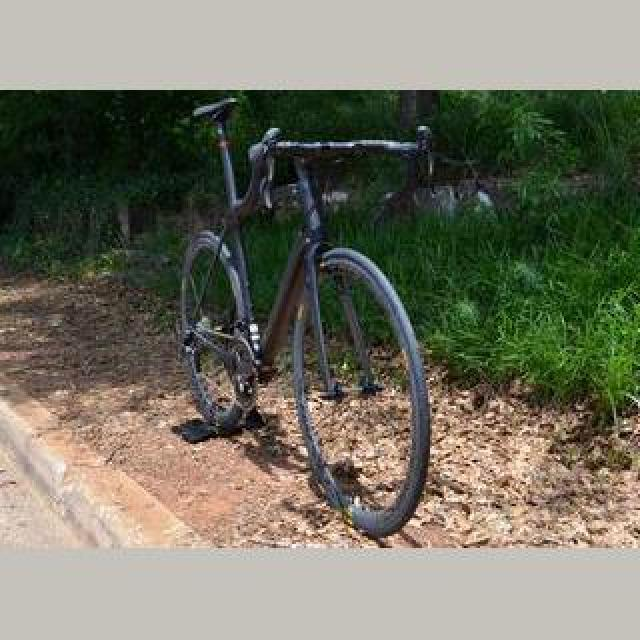Person: (172, 105, 448, 543)
